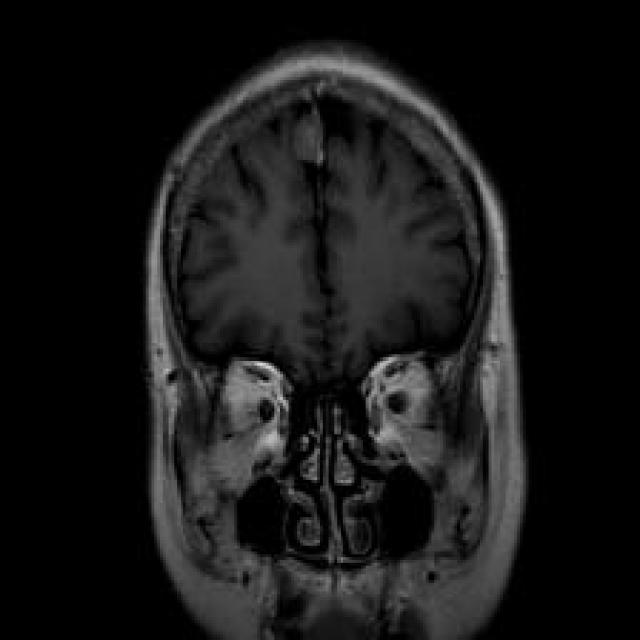meningioma_tumor: (282, 100, 342, 185)
